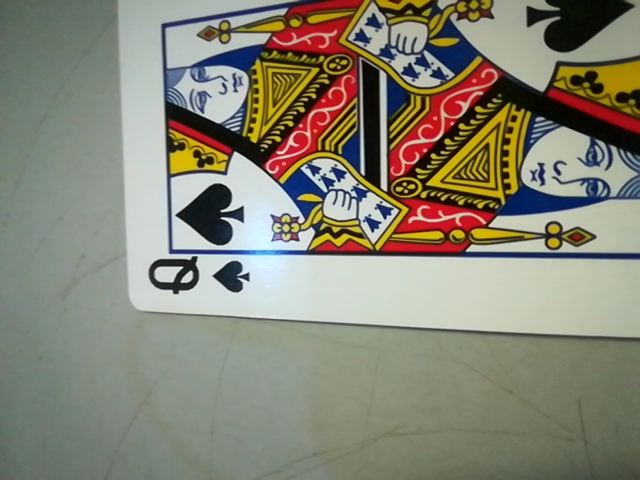ht q: (129, 247, 261, 308)
